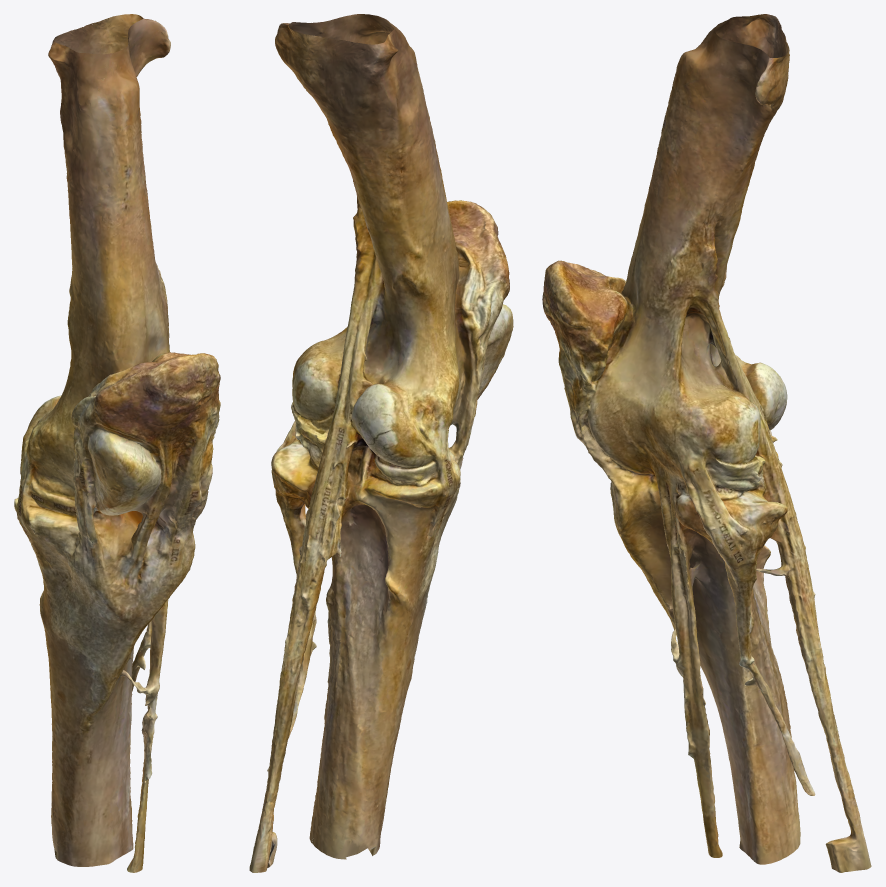
Rendered from horse-stifle.glb.
The picture shows the model from 3 angles, left to right: view 1: azimuth 30°, elevation 25°; view 2: azimuth 150°, elevation 25°; view 3: azimuth 270°, elevation 25°; orthographic projection.
Visible parts, largest first — view 1: Object_2; view 2: Object_2; view 3: Object_2.
Boxes of the visible parts, box(x1,y1,x2,y2) form: Object_2: box(14, 14, 220, 872); Object_2: box(249, 14, 513, 872); Object_2: box(542, 14, 871, 872).
Bounding box in the file's own units: 0.42 × 1.85 × 0.6763.
Materials: 2 (2 with a texture image).
